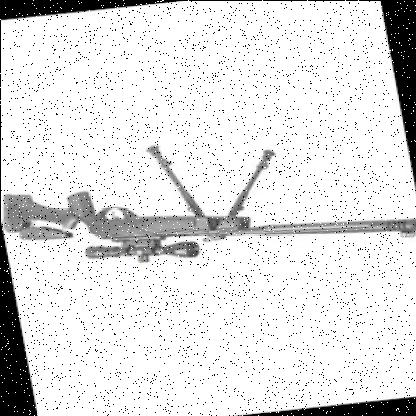rifle: (0, 152, 416, 287)
